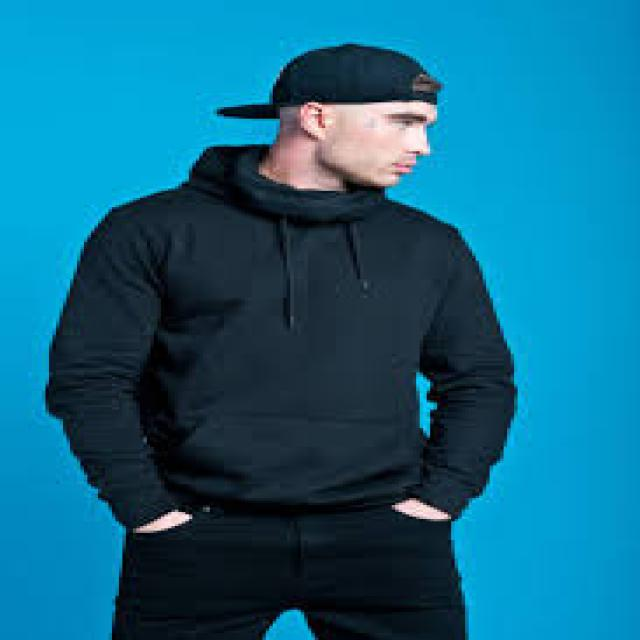cap: (210, 39, 458, 198)
